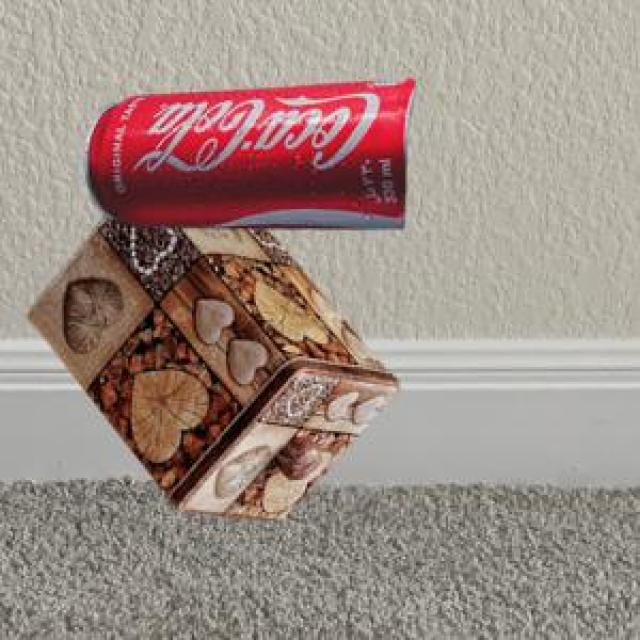logam: (25, 212, 396, 517), (82, 76, 411, 225)
